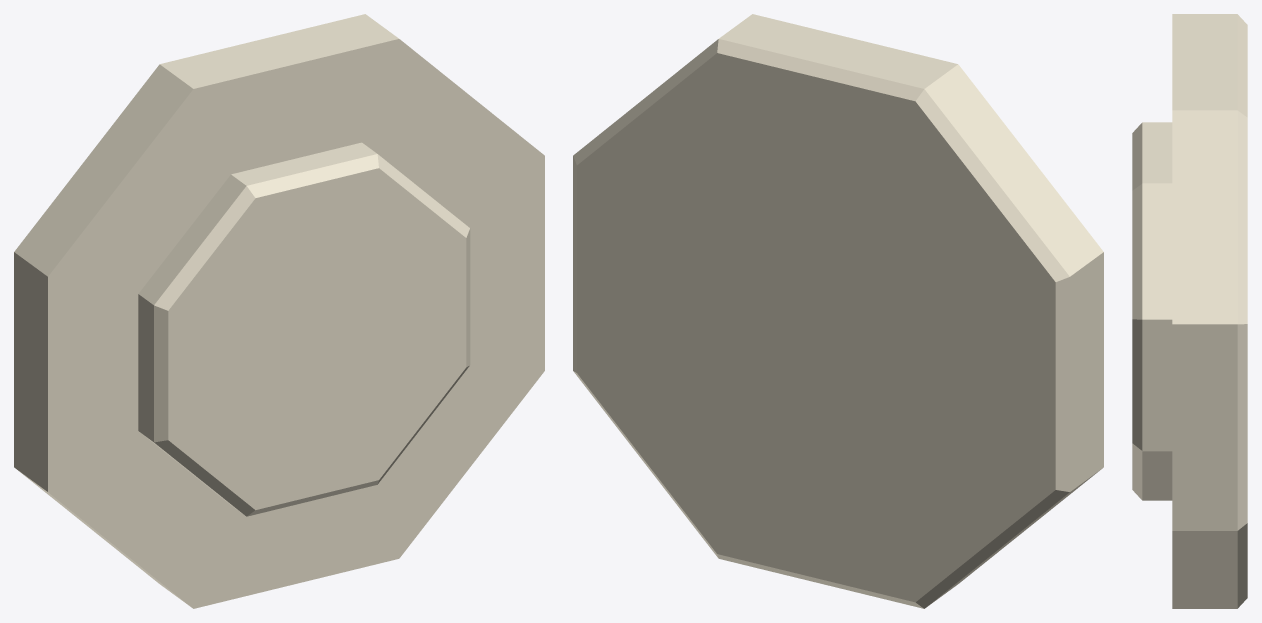
The model's file is coupon-boss-key-r0@ivory.glb.
3 renders of one model, left to right at view 1: azimuth 30°, elevation 25°; view 2: azimuth 150°, elevation 25°; view 3: azimuth 270°, elevation 25°, orthographic. The views are drawn at different scales.
Visible parts, largest first — view 1: geometry_0; view 2: geometry_0; view 3: geometry_0.
Part boxes in pixels (x1,y1,x2,y2): geometry_0: (14, 14, 544, 608); geometry_0: (573, 14, 1103, 608); geometry_0: (1132, 14, 1247, 608).
Bounding box in the file's own units: 22 × 22 × 4.6.
